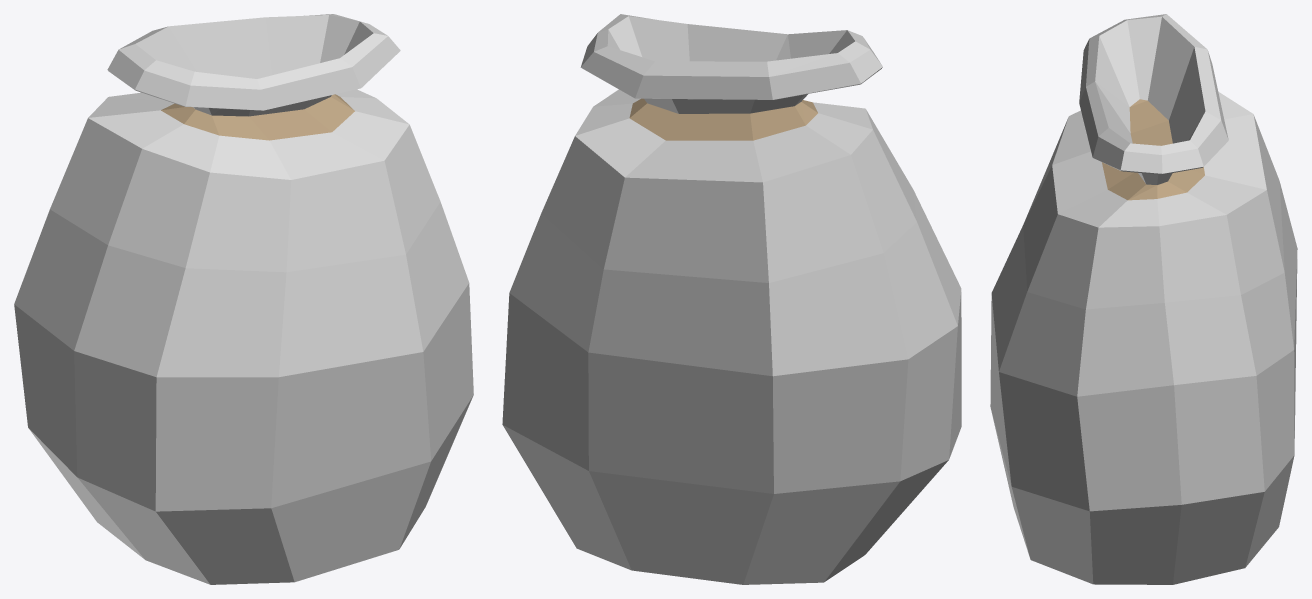
The model's file is Bag.fbx.
3 views of the same model, side by side, from view 1: azimuth 30°, elevation 25°; view 2: azimuth 150°, elevation 25°; view 3: azimuth 270°, elevation 25° (orthographic). The views are drawn at different scales.
Visible parts, largest first — view 1: Bag.001; view 2: Bag.001; view 3: Bag.001.
Part boxes in pixels (x1=…): Bag.001: x1=14, y1=14, x2=473, y2=584; Bag.001: x1=502, y1=14, x2=961, y2=584; Bag.001: x1=990, y1=14, x2=1297, y2=584.
Size of the model in its own units: 0.6812 by 0.8209 by 0.4976.
